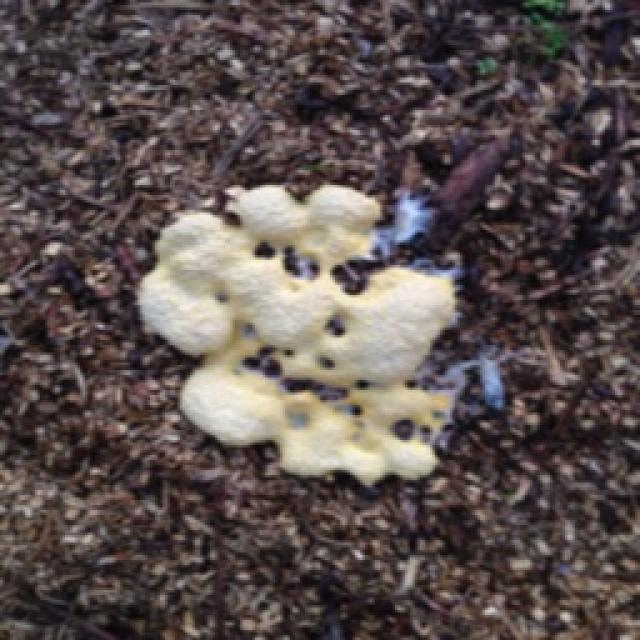Dog_vomit_slime_mold: (108, 173, 566, 520)
